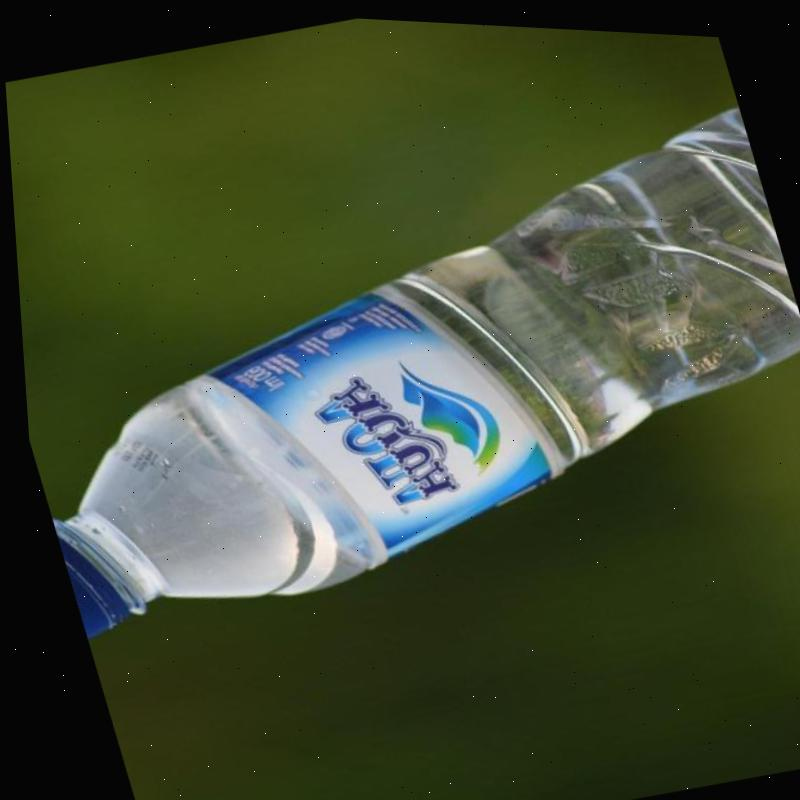botella: (4, 67, 800, 668)
